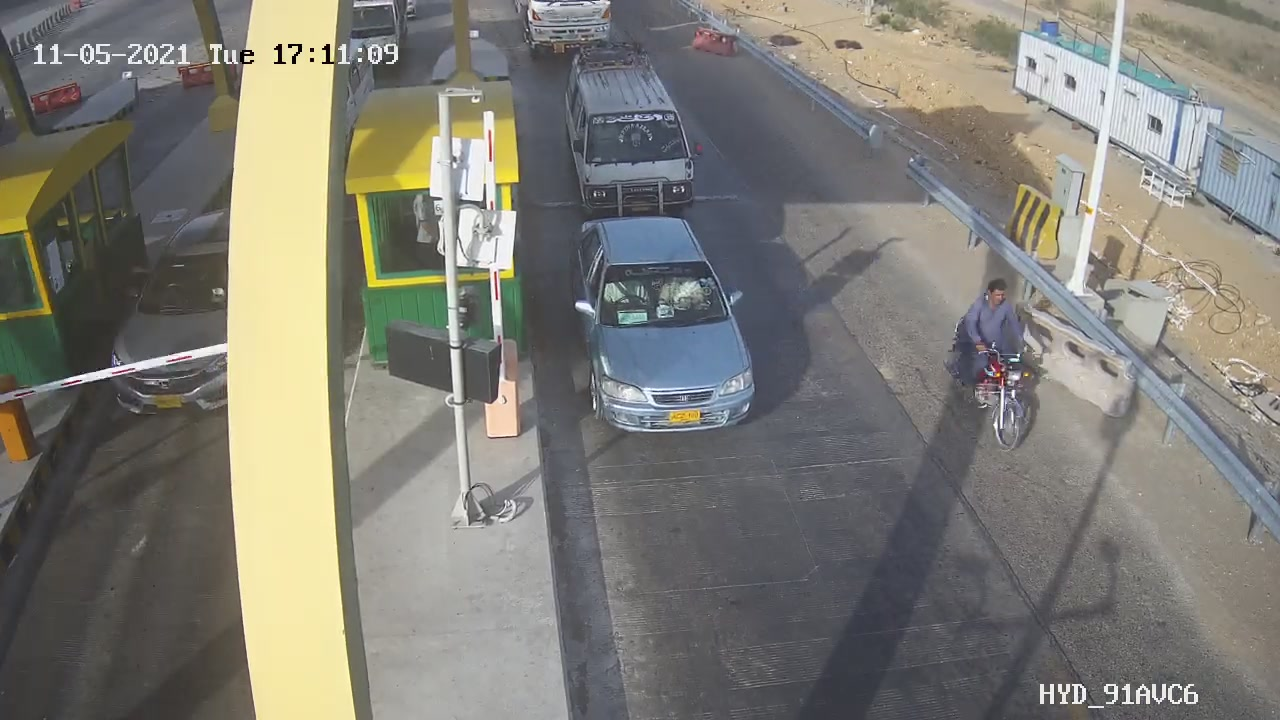F1: (561, 203, 760, 464)
F2: (539, 44, 700, 210)
